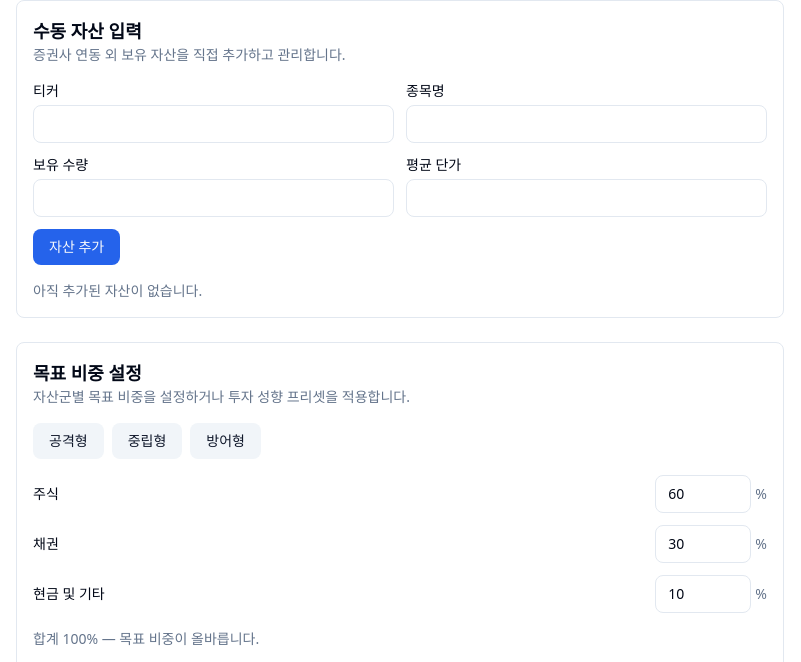
Test: SettingsPortfolioPanel — 수동 자산 › 자산 추가 실패 시 에러 메시지를 표시하고 폼 값을 유지한다
The image size is (801, 662).
Expected: the number field named "주식 목표 비중" is shown, x1=655 y1=475 x2=751 y2=513
Type "AAPL" into the field labelled "티커" at (214, 124), box x1=33 y1=105 x2=394 y2=143
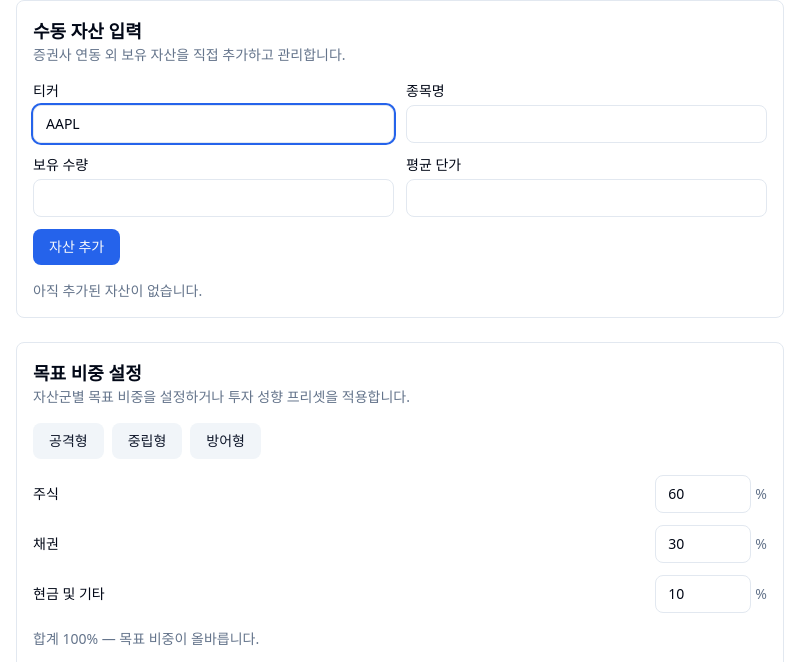
Type "Apple" into the field labelled "종목명" at (586, 124), box x1=406 y1=105 x2=767 y2=143
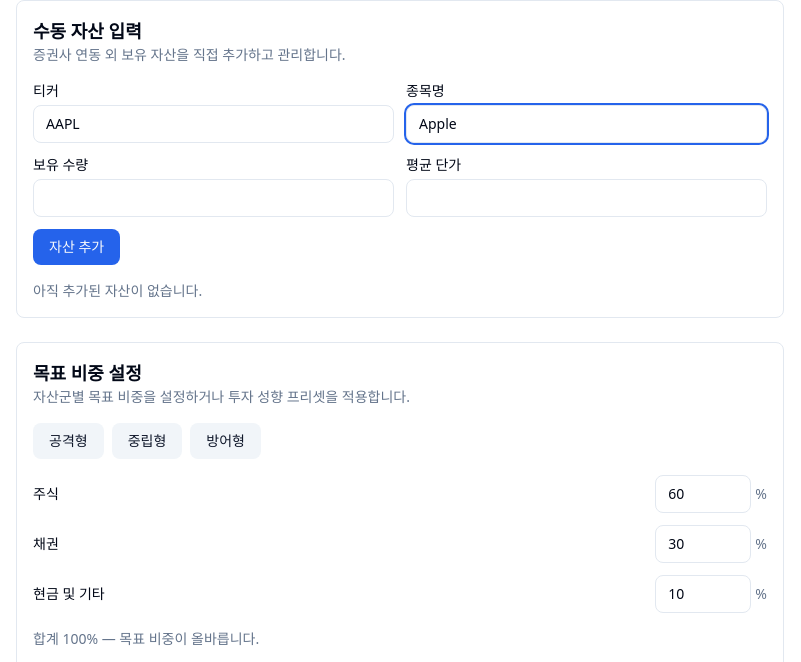
Type "5" into the number field labelled "보유 수량" at (214, 198), box x1=33 y1=179 x2=394 y2=217
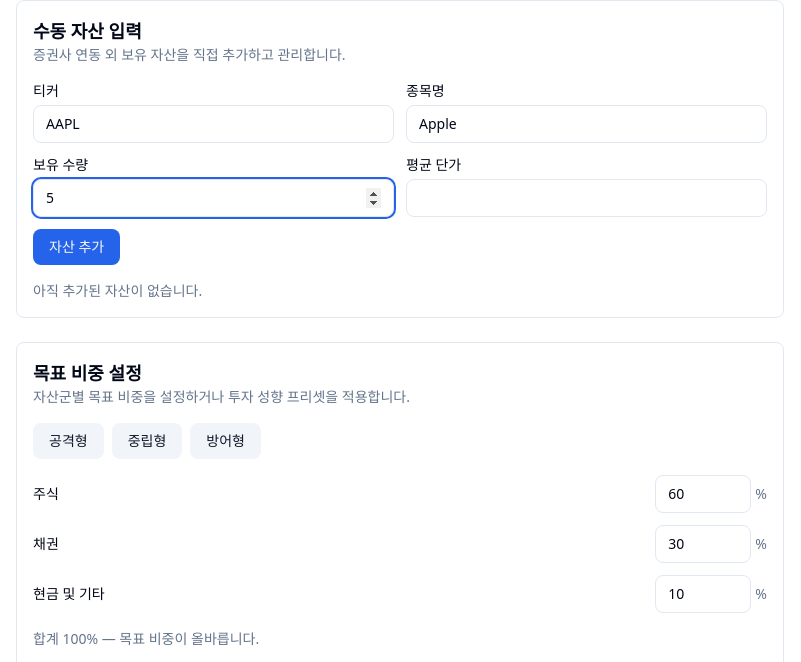
Type "150" into the number field labelled "평균 단가" at (586, 198), box x1=406 y1=179 x2=767 y2=217
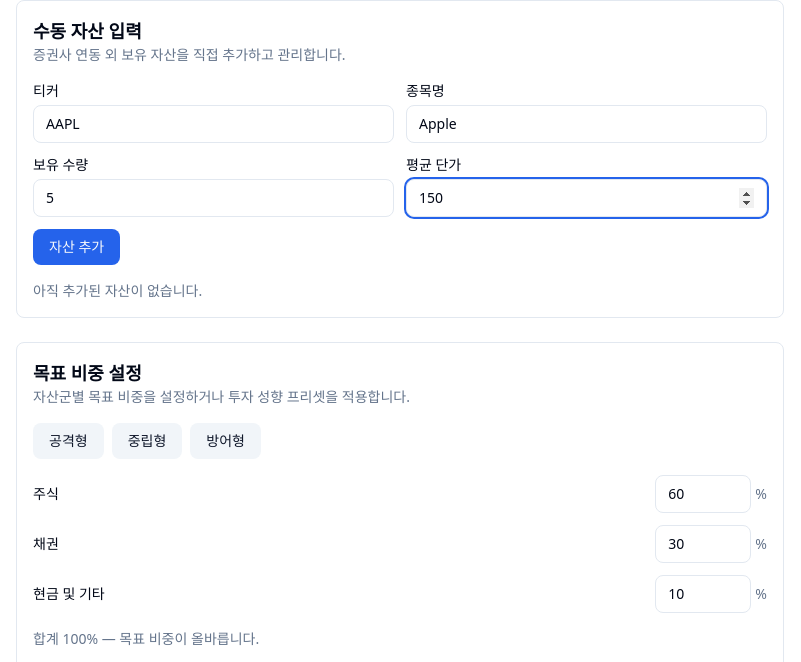
Click the button "자산 추가" at (77, 247), box x1=33 y1=229 x2=120 y2=265
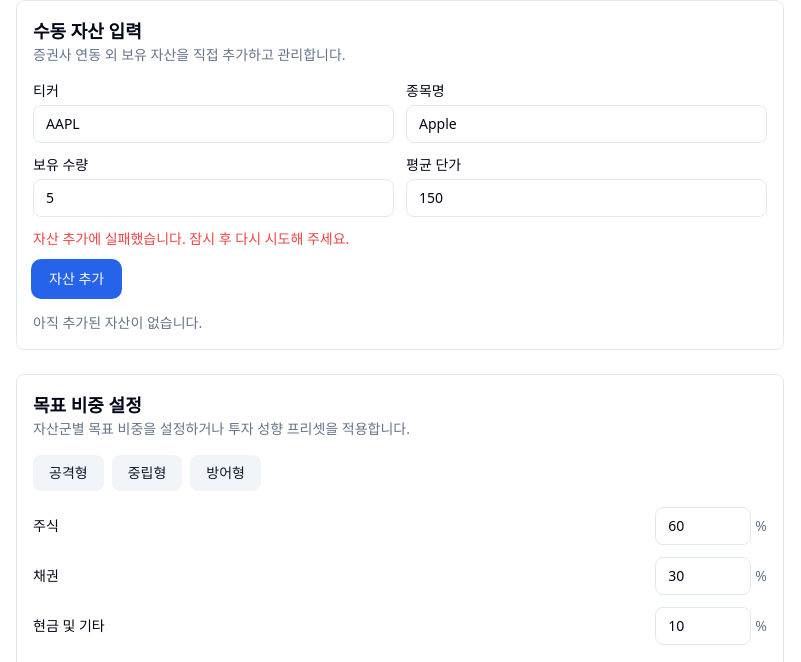
Result: the text "자산 추가에 실패했습니다. 잠시 후 다시 시도해 주세요." is shown at x1=33 y1=229 x2=349 y2=248
